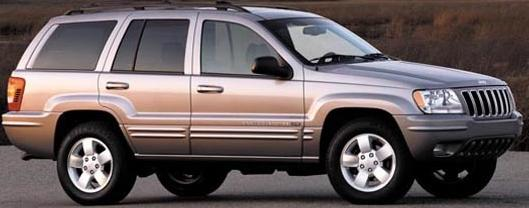front_view: (409, 73, 524, 158)
headlight: (409, 86, 467, 118)
side_glass: (27, 18, 293, 83)
